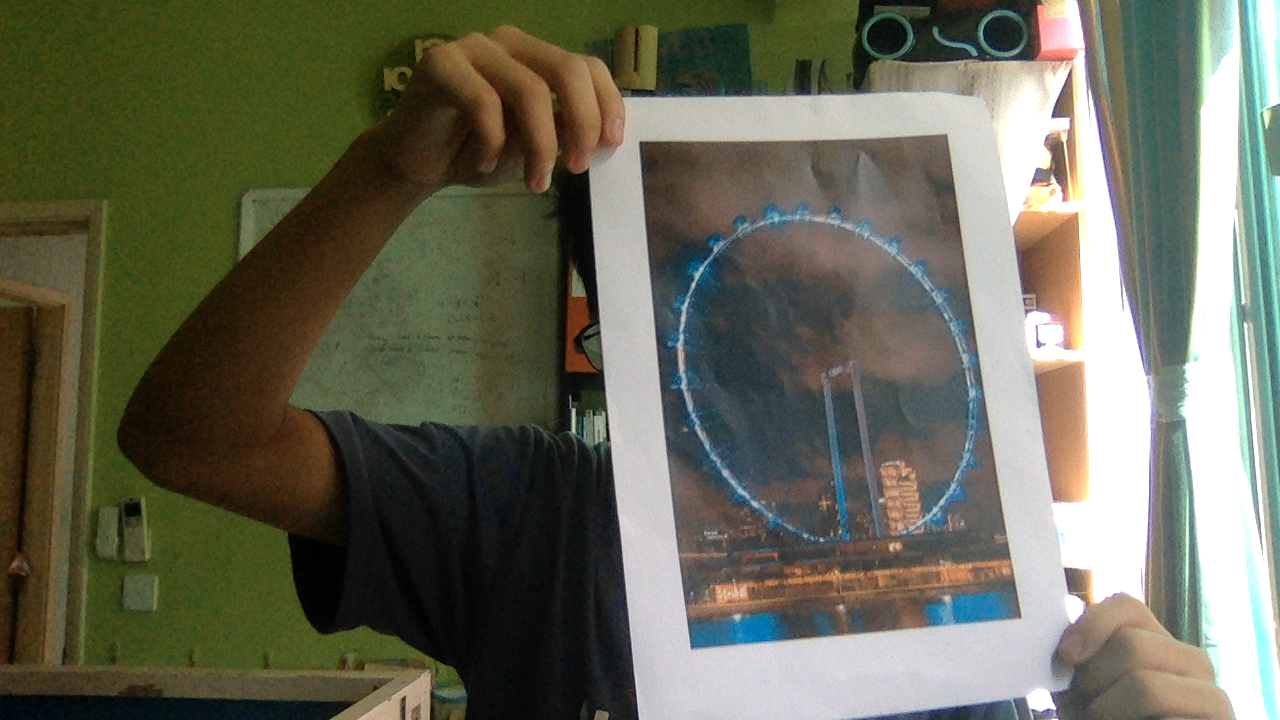Flyer: (631, 133, 1036, 641)
